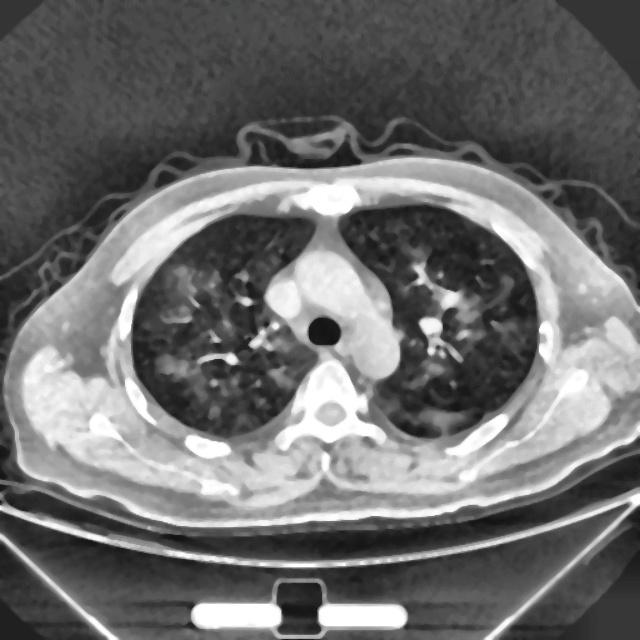covid: (2, 117, 638, 537)
